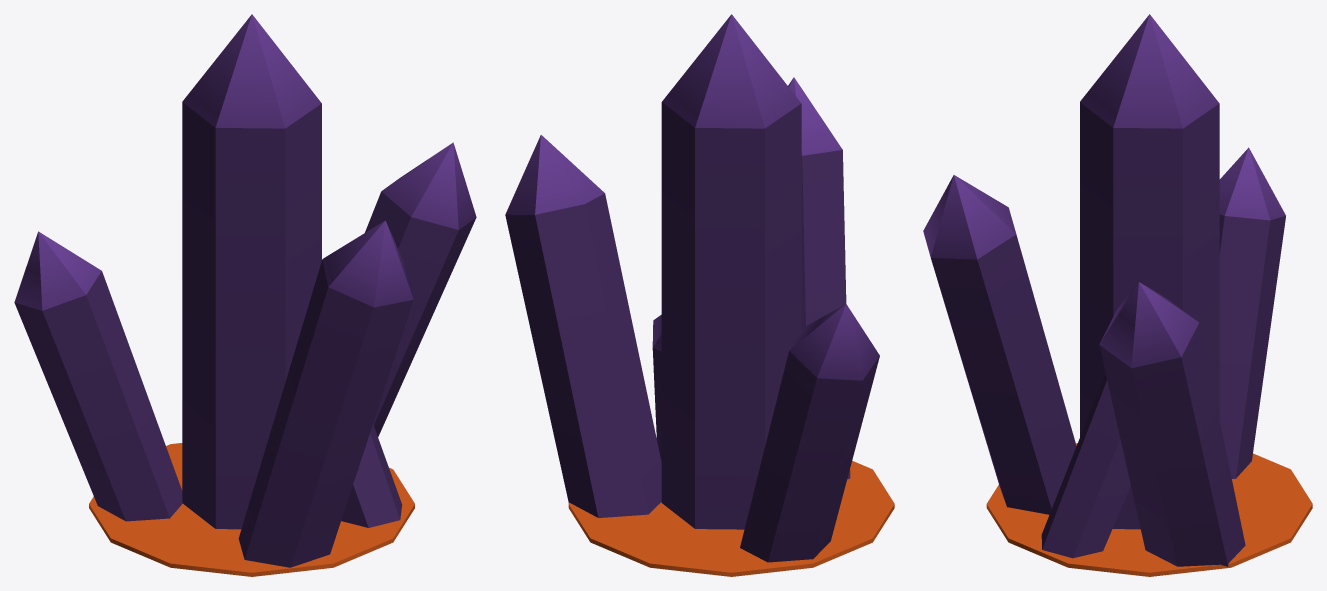
File: candy-deco3.glb
The picture shows the model from 3 angles, left to right: view 1: azimuth 30°, elevation 25°; view 2: azimuth 150°, elevation 25°; view 3: azimuth 270°, elevation 25°; orthographic projection.
Visible parts, largest first — view 1: candy-deco3; view 2: candy-deco3; view 3: candy-deco3.
Boxes of the visible parts, x1=… form: candy-deco3: x1=14, y1=14, x2=476, y2=576; candy-deco3: x1=505, y1=14, x2=894, y2=576; candy-deco3: x1=923, y1=14, x2=1312, y2=576.
Size of the model in its own units: 1.98 by 2.34 by 1.67.
